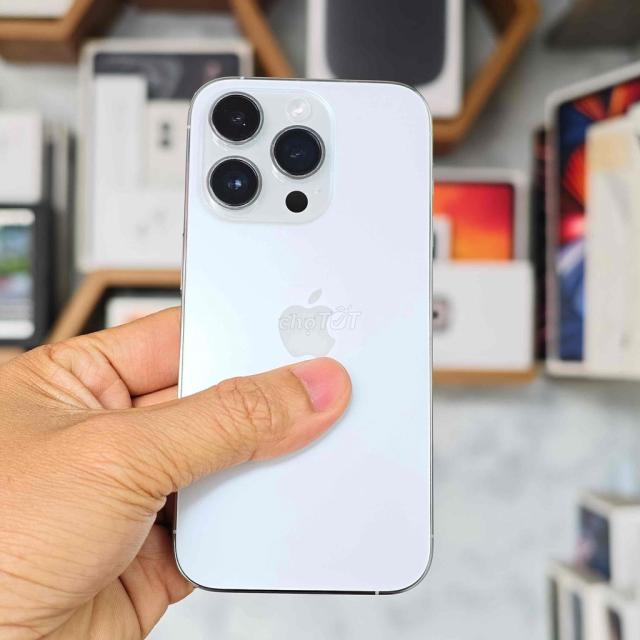gen_14: (154, 69, 442, 599)
